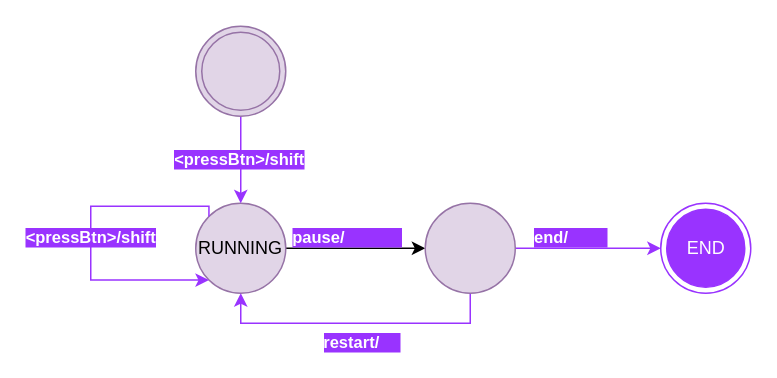
Some shapes in this 777 by 378 pixel diagram are drawn without their labels. Each missing label, with the box of its shape:
PAUSE: (424, 202, 515, 293)
READY: (194, 25, 286, 116)
